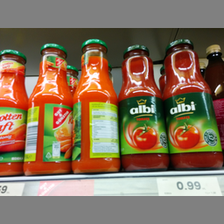juice: (163, 38, 223, 169), (119, 44, 170, 172), (25, 43, 74, 174), (73, 39, 120, 173), (1, 49, 29, 177)
